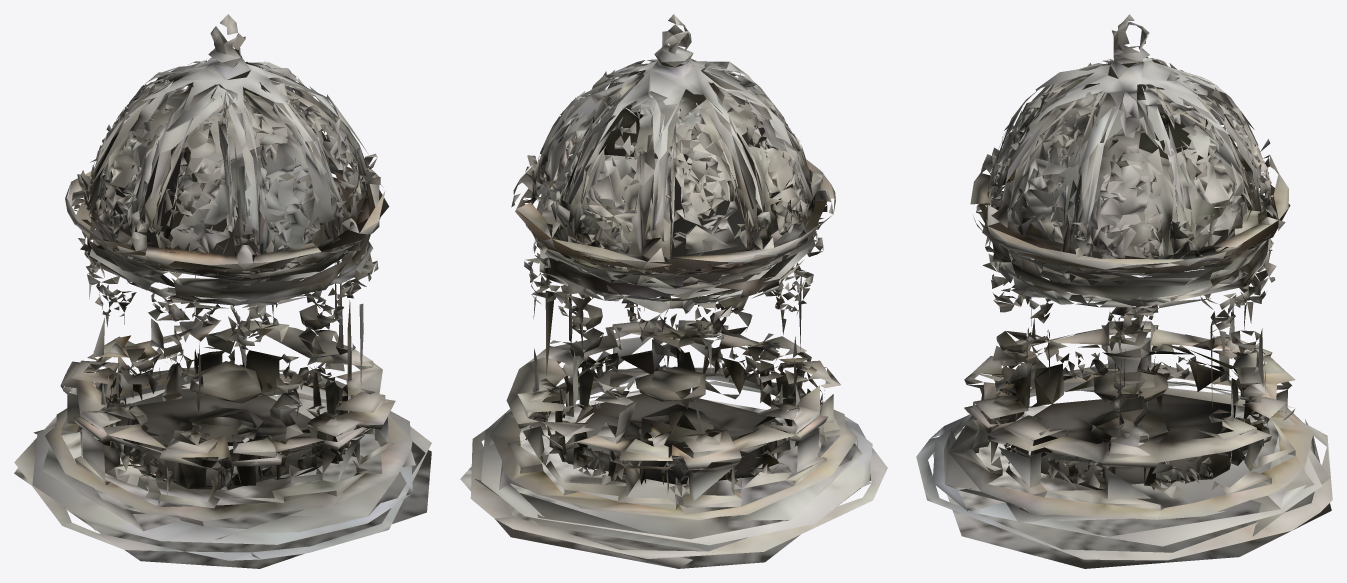
File: Marble_Pavilion_town.glb
The picture shows the model from 3 angles, left to right: view 1: azimuth 30°, elevation 25°; view 2: azimuth 150°, elevation 25°; view 3: azimuth 270°, elevation 25°; orthographic projection.
Parts seen in each view (by area): view 1: Marble_Pavilion; view 2: Marble_Pavilion; view 3: Marble_Pavilion.
Boxes of the visible parts, left/top/right/bottom form: Marble_Pavilion: left=14, top=14, right=431, bottom=568; Marble_Pavilion: left=460, top=14, right=887, bottom=568; Marble_Pavilion: left=916, top=14, right=1332, bottom=568.
Bounding box in the file's own units: 1.57 × 1.92 × 1.55.
1 material, 1 textured.
